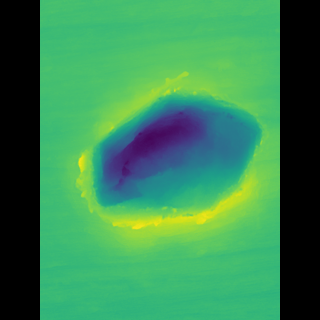Loch: (82, 71, 249, 247)
